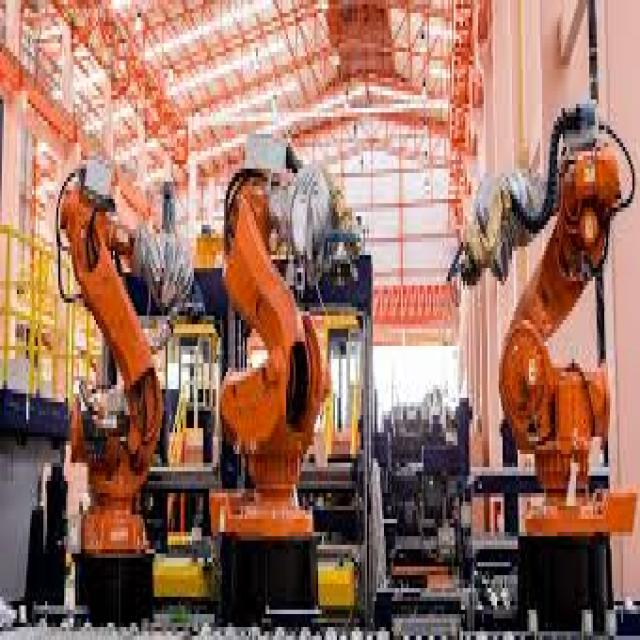Robotic-arm: (452, 94, 640, 619), (211, 147, 336, 624), (52, 152, 175, 636)
